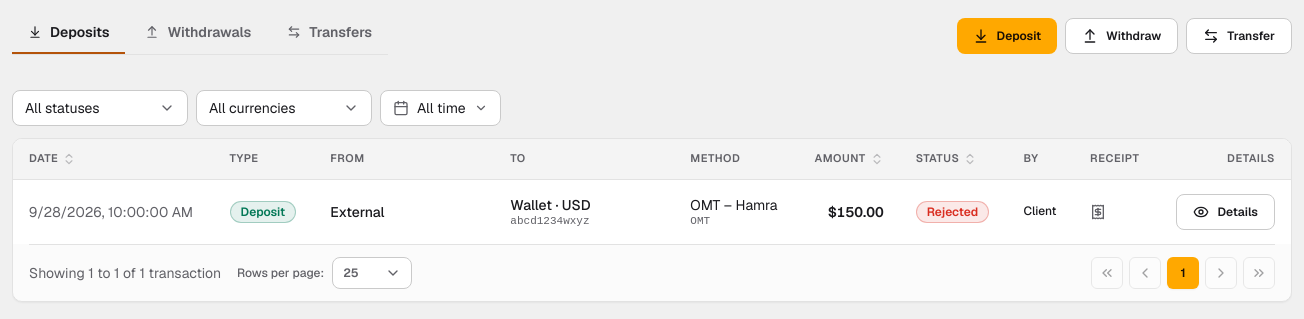
Test: the Transactions tab › names a transfer by both ends, never "deposit" or "withdrawal"
The width and height of the screenshot is (1304, 319).
Click the tab "Transfers" at point(330, 33), box [271,12,388,54]
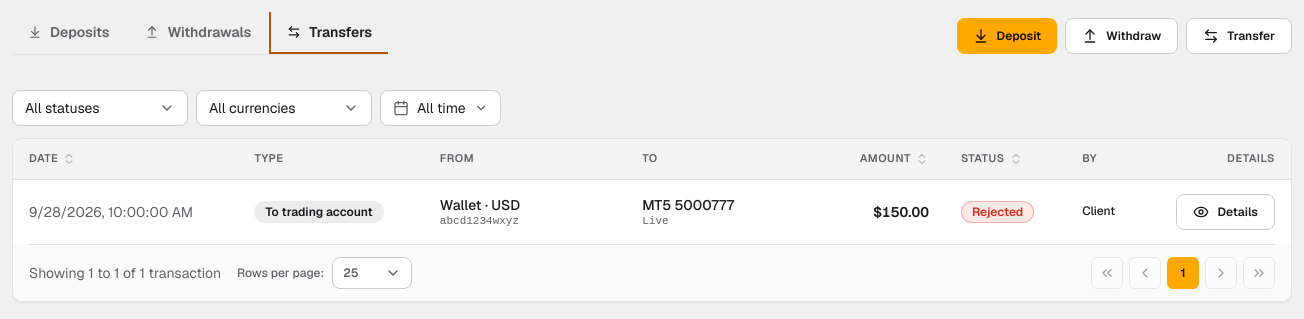
Now the text "MT5 5000777" is shown, box [642,196,734,214]
Now the text "To trading account" is shown, box [254,201,384,223]
